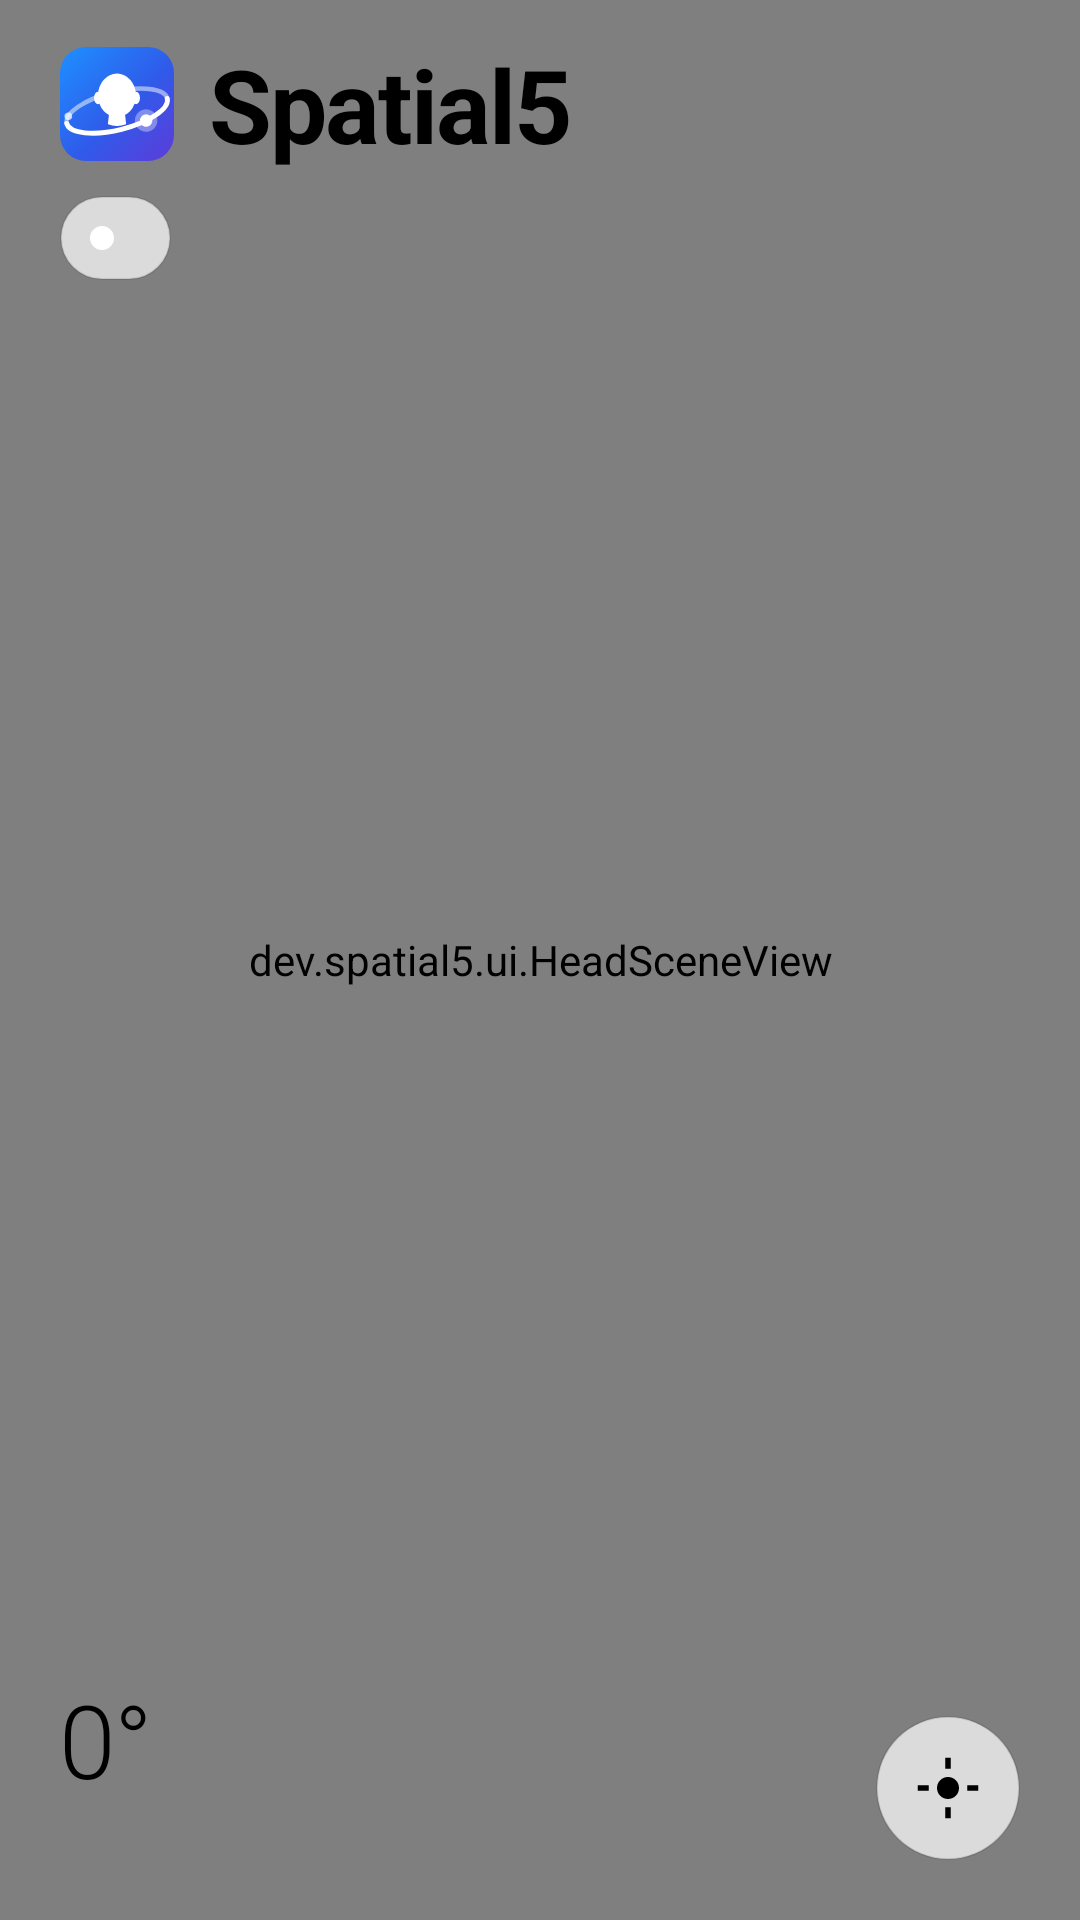

Icons on this 1080px×1920px Android screen, each with its box as (x1, y1, x2, y2):
Recenter: (877, 1717, 1019, 1859)
